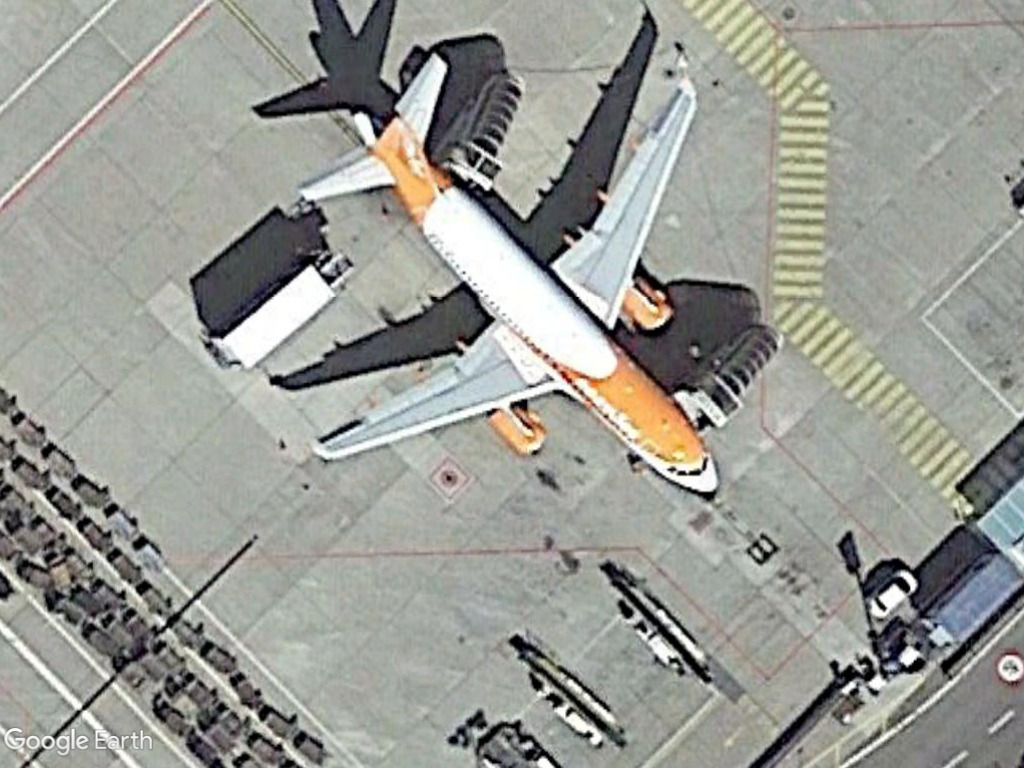airliner: (273, 28, 723, 503)
car: (863, 564, 920, 619)
truck: (206, 243, 352, 374)
